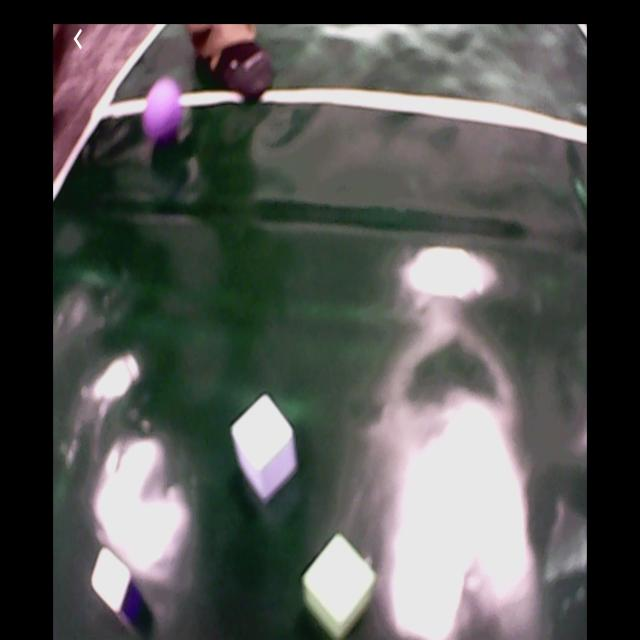ball: (144, 80, 182, 142)
